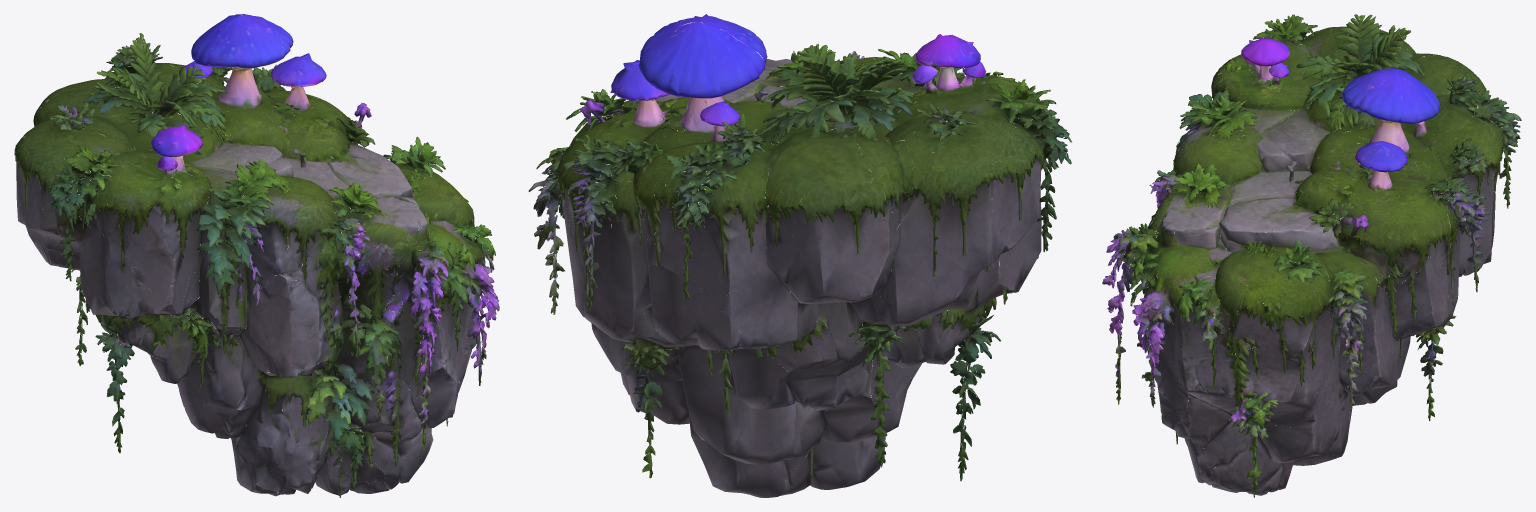
File: rock.glb
The picture shows the model from 3 angles, left to right: view 1: azimuth 30°, elevation 25°; view 2: azimuth 150°, elevation 25°; view 3: azimuth 270°, elevation 25°; orthographic projection. The views are drawn at different scales.
Visible parts, largest first — view 1: tripo_node_c8a40460-4caa-4ae9-8bcd-97fa6077fe02; view 2: tripo_node_c8a40460-4caa-4ae9-8bcd-97fa6077fe02; view 3: tripo_node_c8a40460-4caa-4ae9-8bcd-97fa6077fe02.
Boxes of the visible parts, <box> form: tripo_node_c8a40460-4caa-4ae9-8bcd-97fa6077fe02: <box>14,14,499,497</box>; tripo_node_c8a40460-4caa-4ae9-8bcd-97fa6077fe02: <box>528,14,1071,497</box>; tripo_node_c8a40460-4caa-4ae9-8bcd-97fa6077fe02: <box>1102,14,1521,497</box>.
Size of the model in its own units: 10.17 by 10 by 9.64.
1 material, 1 textured.
